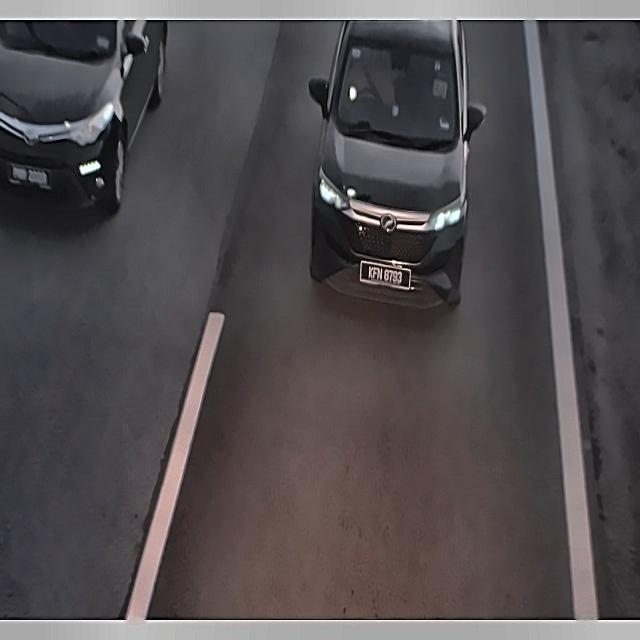car: (357, 253, 413, 298), (6, 156, 54, 196)
